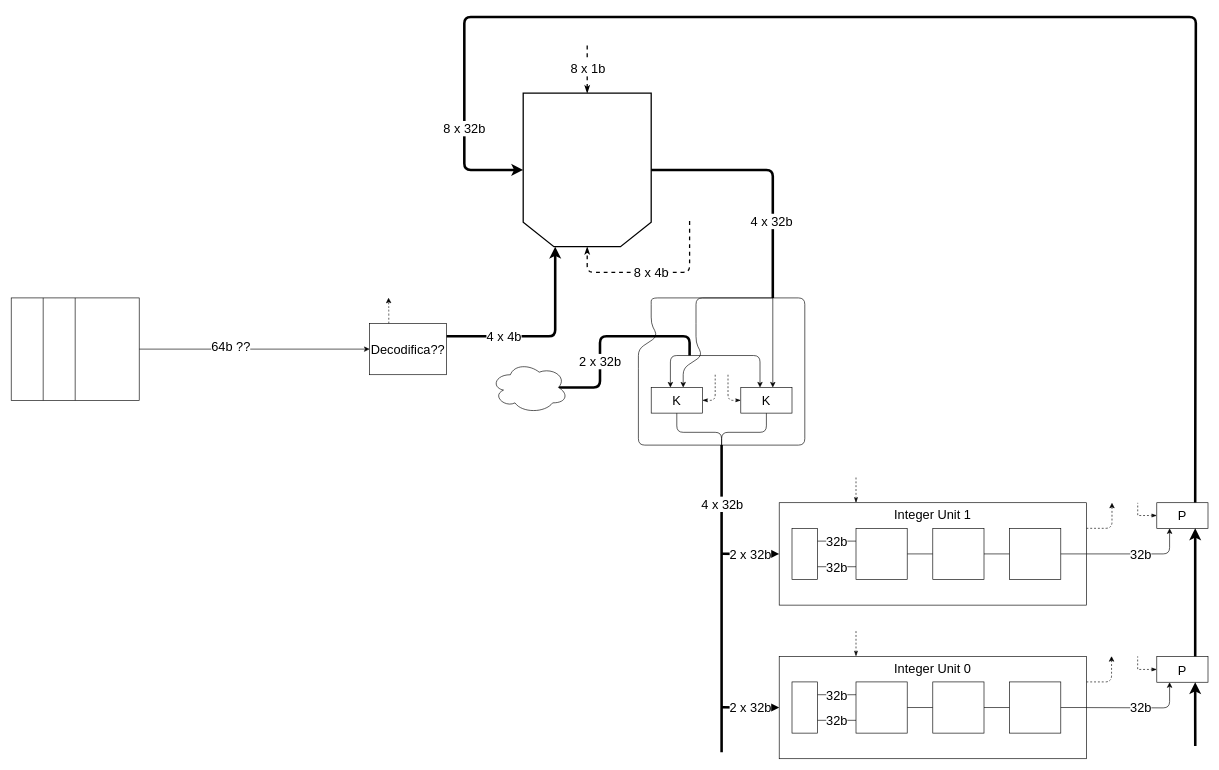
Some shapes in this 1219 by 770 pixel diagram are drawn without their labels. The shapes that lost their labels are listed below. From the top down, each one's centre as x and y in pixels, then its label:
pixel 587 169: Int RegFile
pixel 529 387: Magia
